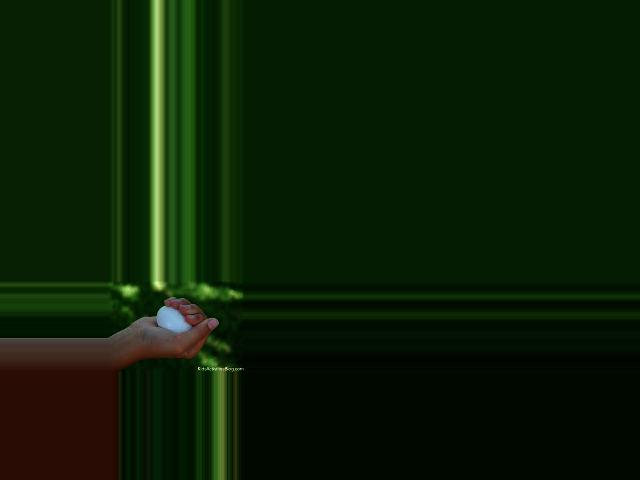egg: (156, 306, 193, 332)
